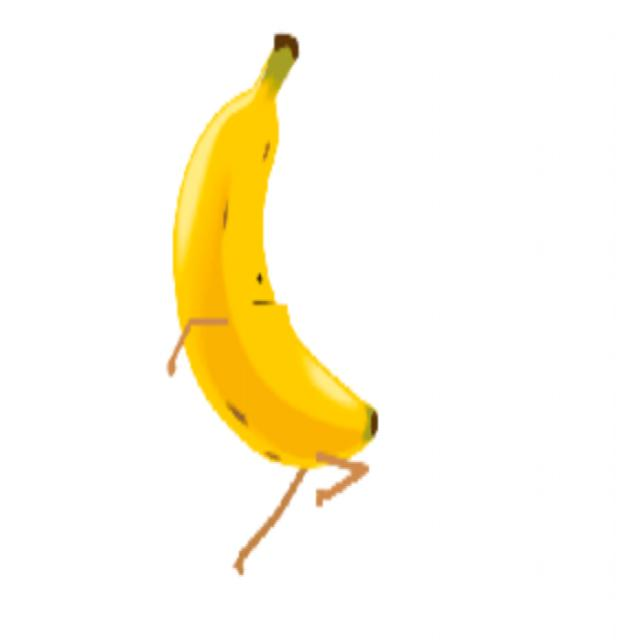banana: (164, 26, 396, 596)
